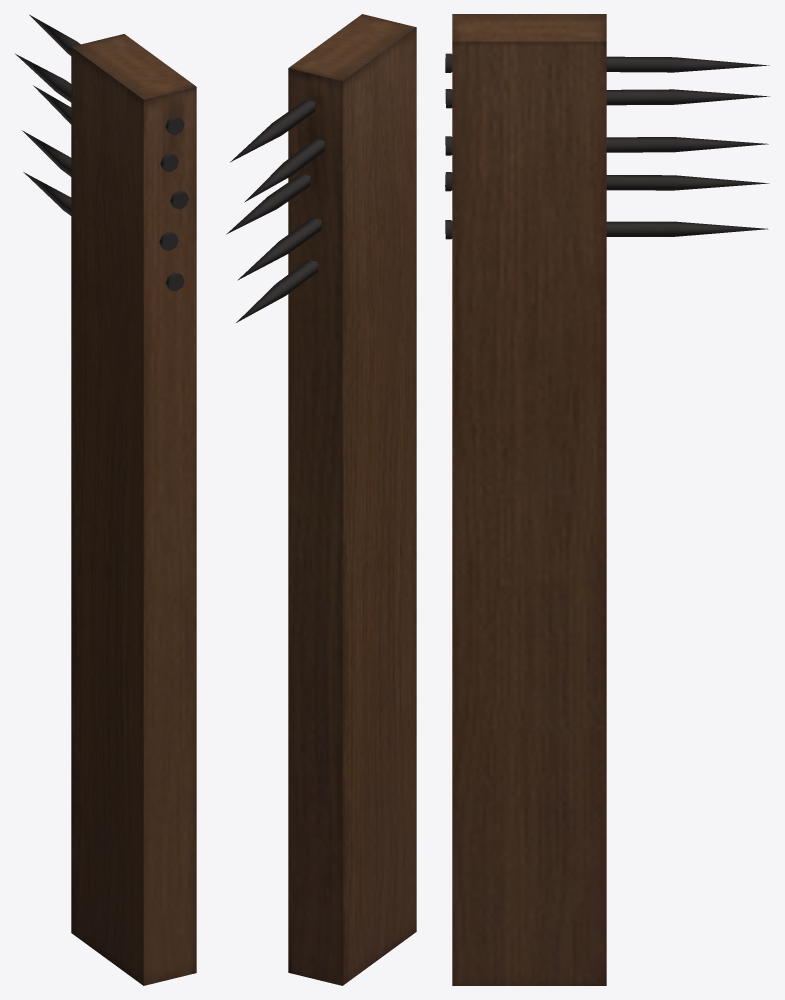
File: HalfPlankNails.fbx
3 views of the same model, side by side, from view 1: azimuth 30°, elevation 25°; view 2: azimuth 150°, elevation 25°; view 3: azimuth 270°, elevation 25° (orthographic). The views are drawn at different scales.
Parts seen in each view (by area): view 1: Nail.003; view 2: Nail.003; view 3: Nail.003.
Part boxes in pixels (left/top/right/bottom): Nail.003: left=15, top=14, right=196, bottom=985; Nail.003: left=226, top=14, right=416, bottom=985; Nail.003: left=445, top=14, right=769, bottom=985.
Size of the model in its own units: 0.0238 by 0.3784 by 0.1183.
